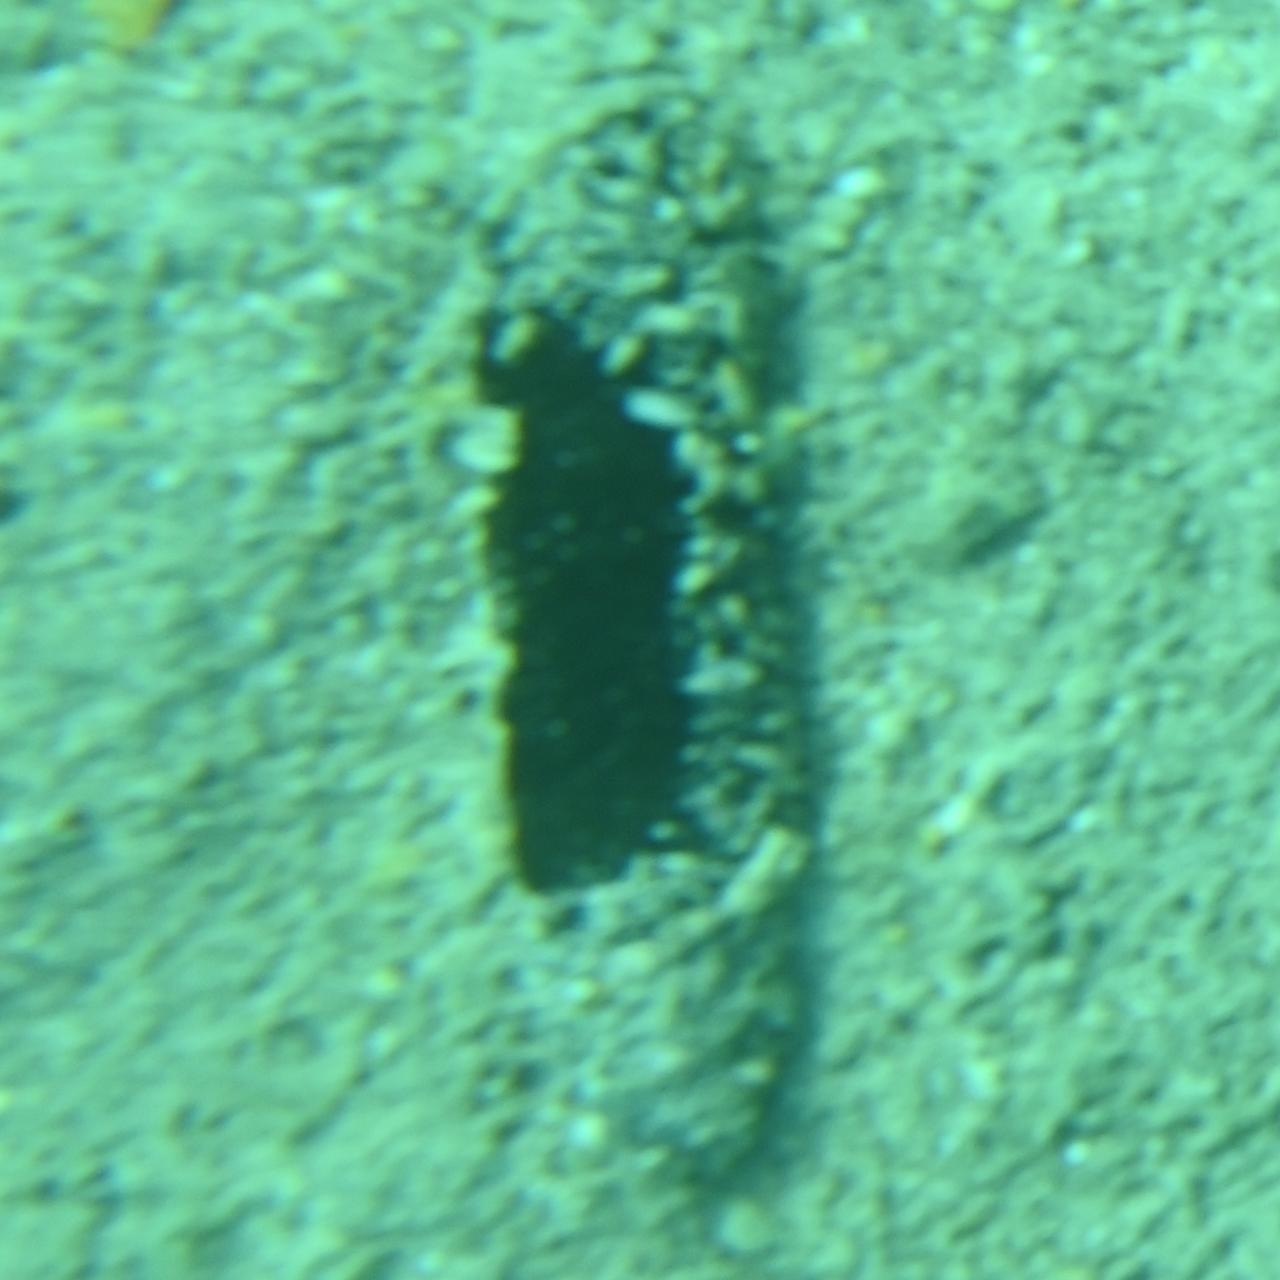Holothuria tubulosa: (430, 76, 850, 1204)
